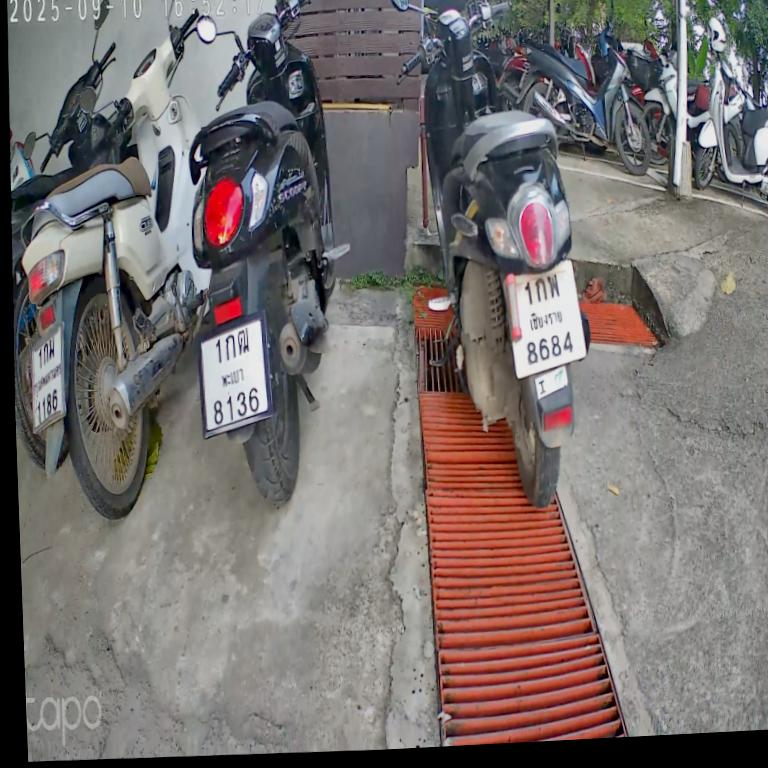license plate: (496, 251, 595, 388), (192, 302, 277, 444), (21, 316, 76, 441)
